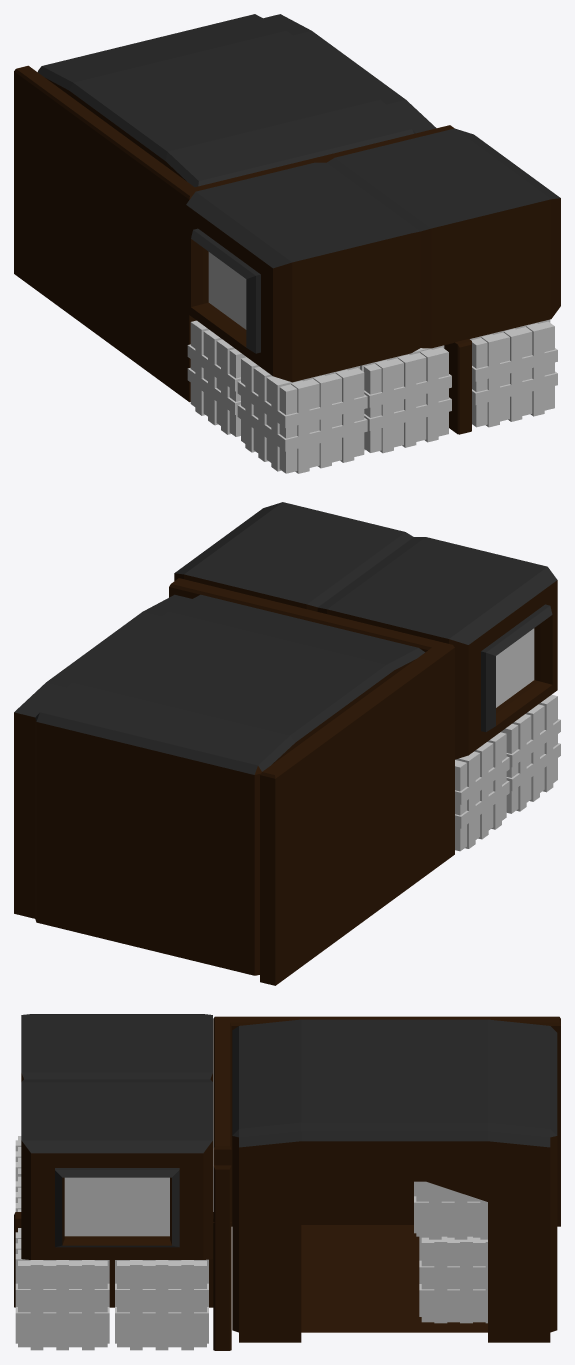
Rendered from ObjBuilding.fbx.
The picture shows the model from 3 angles, top to bottom: view 1: azimuth 30°, elevation 25°; view 2: azimuth 150°, elevation 25°; view 3: azimuth 270°, elevation 25°; orthographic projection. The views are drawn at different scales.
Parts seen in each view (by area): view 1: Room_Cube.001, Walls_Cube, Garage_Cube.004, Storage_Cube.002; view 2: Garage_Cube.004, Walls_Cube, Room_Cube.001, Storage_Cube.002; view 3: Garage_Cube.004, Room_Cube.001, Storage_Cube.002, Walls_Cube.
Boxes of the visible parts, x1,y1,x2,y2 form: Room_Cube.001: (186, 128, 560, 382); Walls_Cube: (14, 65, 471, 434); Garage_Cube.004: (38, 14, 436, 187); Storage_Cube.002: (187, 319, 557, 473); Garage_Cube.004: (14, 594, 424, 975); Walls_Cube: (169, 578, 454, 985); Room_Cube.001: (174, 502, 557, 759); Storage_Cube.002: (455, 694, 560, 851); Garage_Cube.004: (232, 1019, 557, 1342); Room_Cube.001: (21, 1014, 212, 1259); Storage_Cube.002: (15, 1136, 487, 1350); Walls_Cube: (14, 1016, 560, 1350).
Bounding box in the file's own units: 852 × 563 × 1319.
